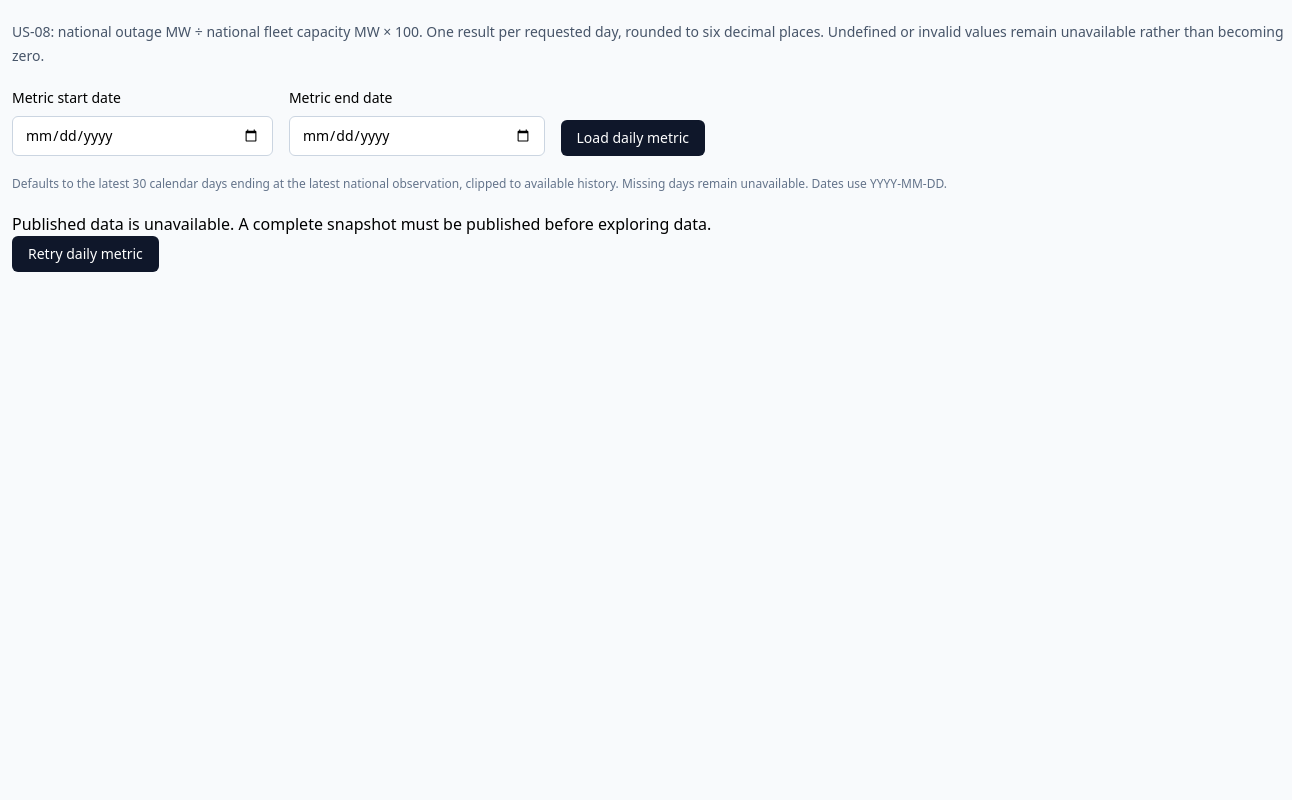
Test: API failure is safe and retry loads the metric
Expected: the message does not show "private", [12,213,711,235]
Click the button "Retry daily metric": coordinates (85, 254) [12,236,159,272]
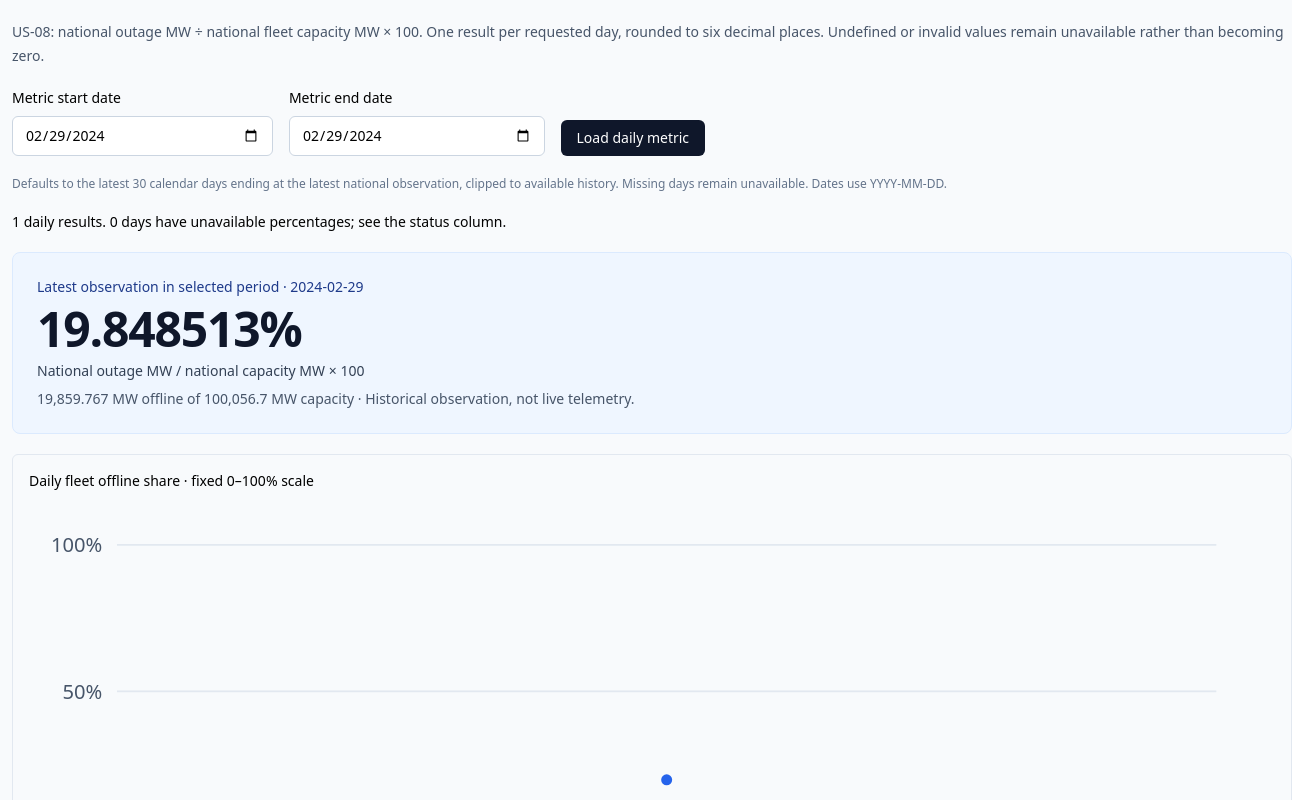
Expected: the element named "Latest observed fleet offline share" is shown, [12,252,1291,434]
